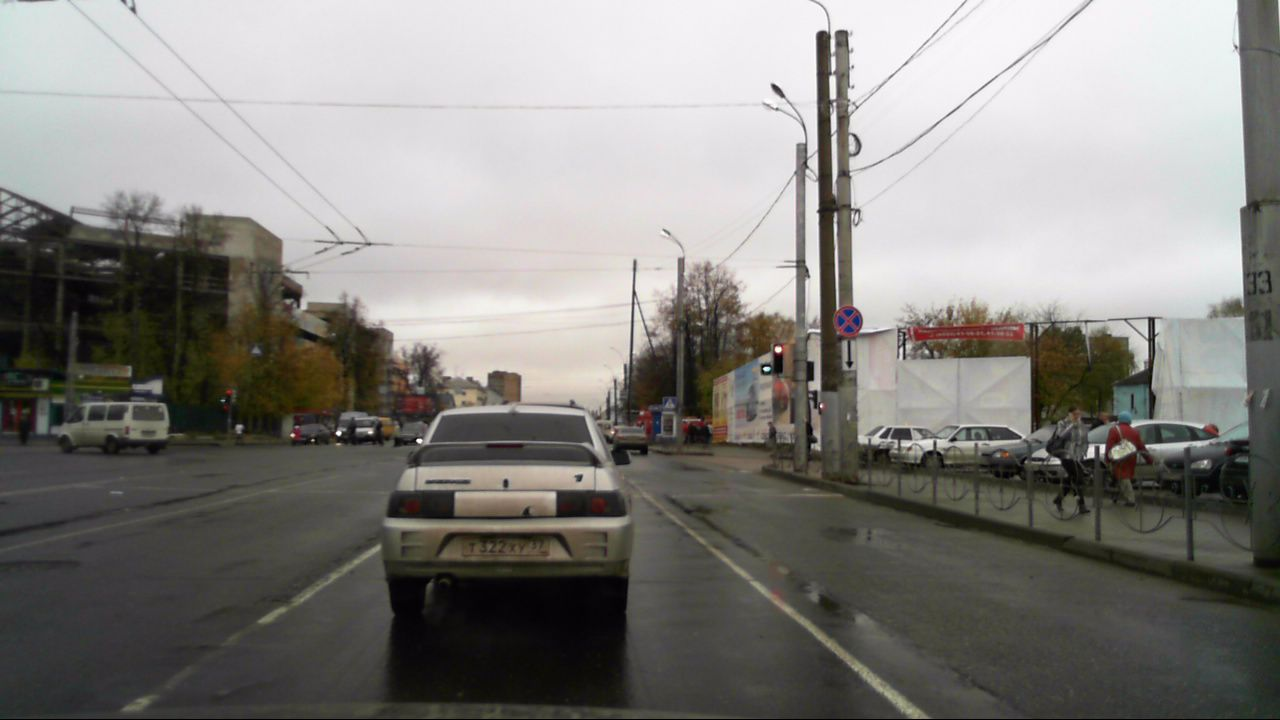No Parking: (833, 305, 862, 338)
